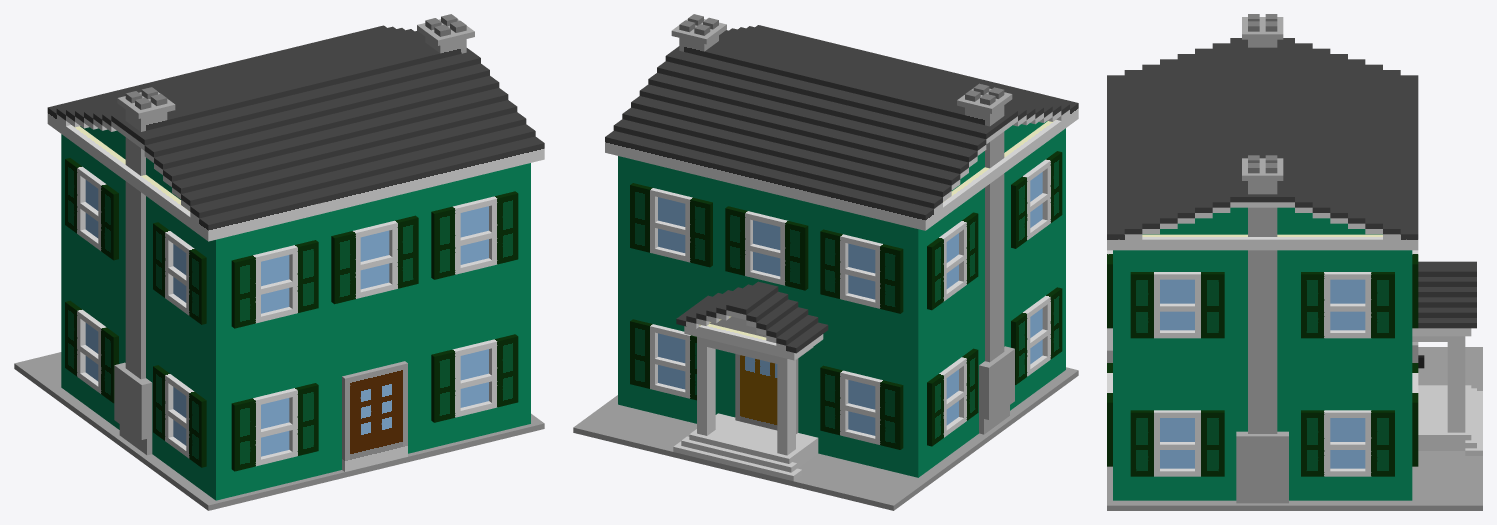
The model's file is obj_house4b.fbx.
3 views of the same model, side by side, from view 1: azimuth 30°, elevation 25°; view 2: azimuth 150°, elevation 25°; view 3: azimuth 270°, elevation 25° (orthographic). The views are drawn at different scales.
Visible parts, largest first — view 1: obj_house4b; view 2: obj_house4b; view 3: obj_house4b.
Part boxes in pixels (bbox=[...]): obj_house4b: bbox=[14, 14, 544, 510]; obj_house4b: bbox=[573, 14, 1078, 510]; obj_house4b: bbox=[1107, 14, 1482, 510].
Size of the model in its own units: 6.4 by 6.4 by 6.4.
1 material, 1 textured.
